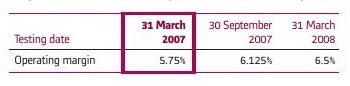table: (0, 0, 350, 86)
